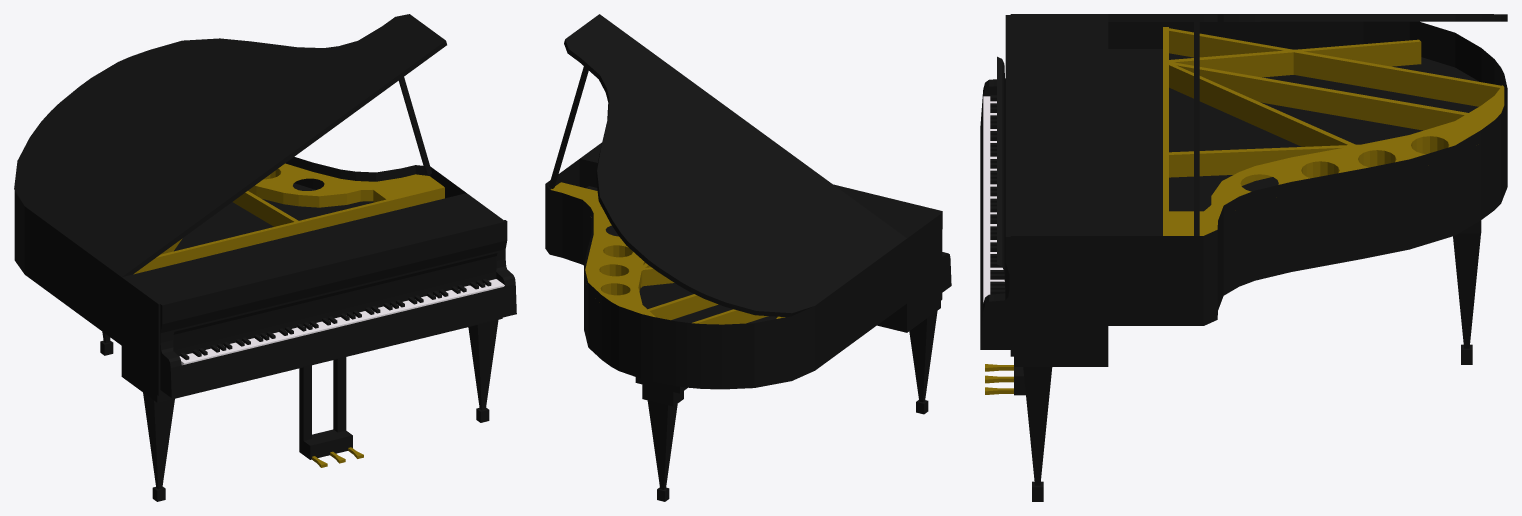
Rendered from sh-bs0-piano-a-queue.glb.
3 views of the same model, side by side, from view 1: azimuth 30°, elevation 25°; view 2: azimuth 150°, elevation 25°; view 3: azimuth 270°, elevation 25° (orthographic). The views are drawn at different scales.
Parts seen in each view (by area): view 1: Cube.008, Cube.012, Cube.006; view 2: Cube.008, Cube.012; view 3: Cube.008, Cube.012, Cube.006.
Boxes of the visible parts, x1=… form: Cube.008: x1=14, y1=14, x2=516, y2=501; Cube.012: x1=133, y1=163, x2=444, y2=467; Cube.006: x1=179, y1=279, x2=504, y2=365; Cube.008: x1=545, y1=14, x2=951, y2=501; Cube.012: x1=550, y1=182, x2=785, y2=324; Cube.008: x1=980, y1=14, x2=1507, y2=501; Cube.012: x1=985, y1=27, x2=1504, y2=394; Cube.006: x1=983, y1=96, x2=1004, y2=302.
Size of the model in its own units: 1 by 1 by 1.
